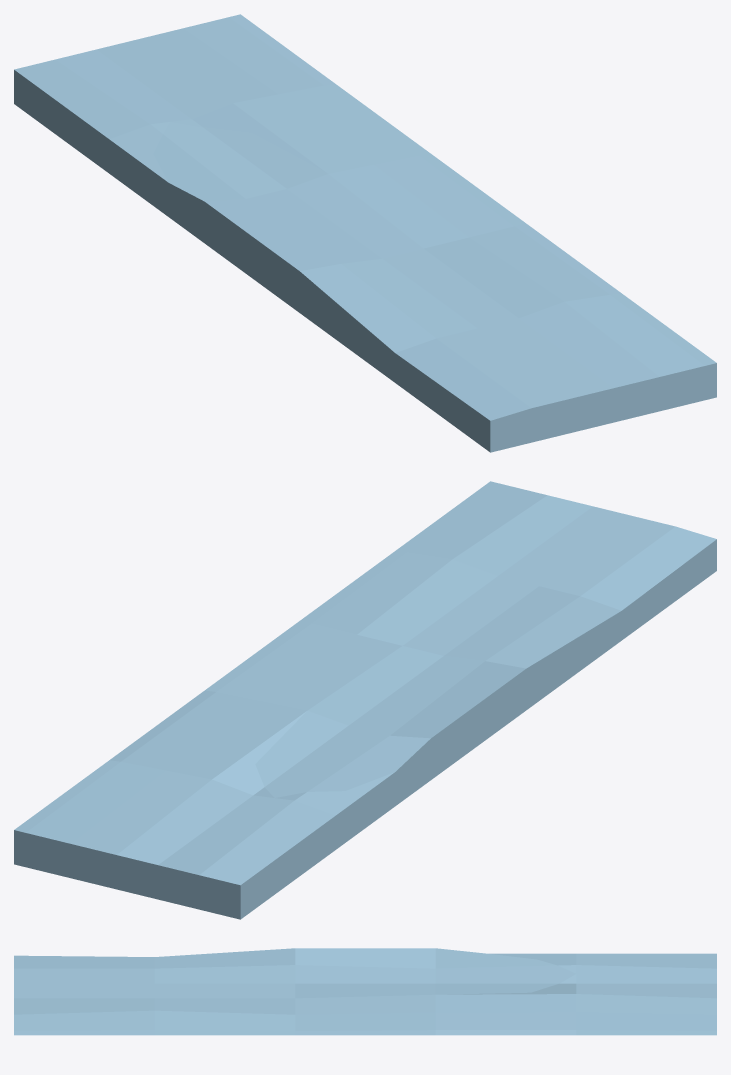
Rendered from industry-water.fbx.
3 renders of one model, top to bottom at view 1: azimuth 30°, elevation 25°; view 2: azimuth 150°, elevation 25°; view 3: azimuth 270°, elevation 25°, orthographic. The views are drawn at different scales.
Parts seen in each view (by area): view 1: industry-water; view 2: industry-water; view 3: industry-water.
Boxes of the visible parts, x1=… form: industry-water: x1=14, y1=14, x2=716, y2=452; industry-water: x1=14, y1=481, x2=716, y2=919; industry-water: x1=14, y1=948, x2=716, y2=1035.
Bounding box in the file's own units: 5.59 × 0.988 × 20.37.
